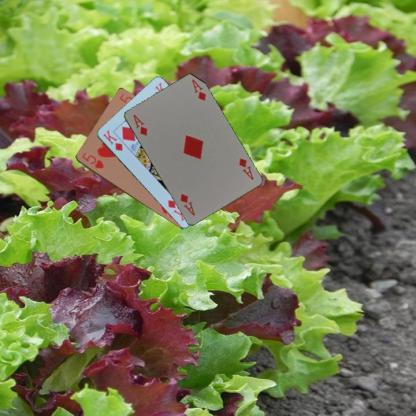5h: (79, 150, 105, 170)
Ad: (236, 155, 255, 181), (130, 111, 148, 137)
Kd: (100, 127, 124, 152)
